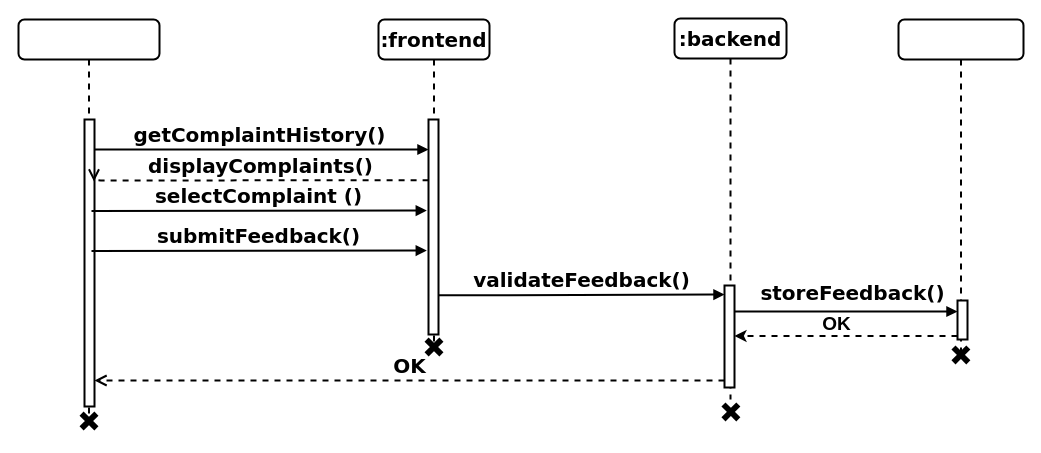
The diagram is 1041 pixels wide and 453 high, and some of its shapes have lost their labels. The box of each missing label's shape, as (x1, y1, x2, y2) in pixels:
:constituent: (17, 18, 160, 420)
:Database: (897, 18, 1024, 357)
